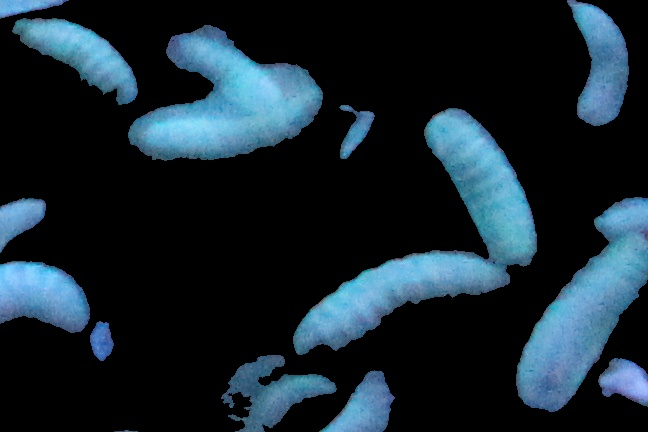larvae: (515, 236, 648, 411), (292, 252, 509, 356), (129, 63, 322, 158), (426, 108, 539, 263), (14, 20, 139, 104), (164, 31, 280, 103), (568, 1, 630, 124), (1, 258, 90, 338), (244, 371, 332, 432), (329, 366, 403, 432), (1, 194, 47, 248)
